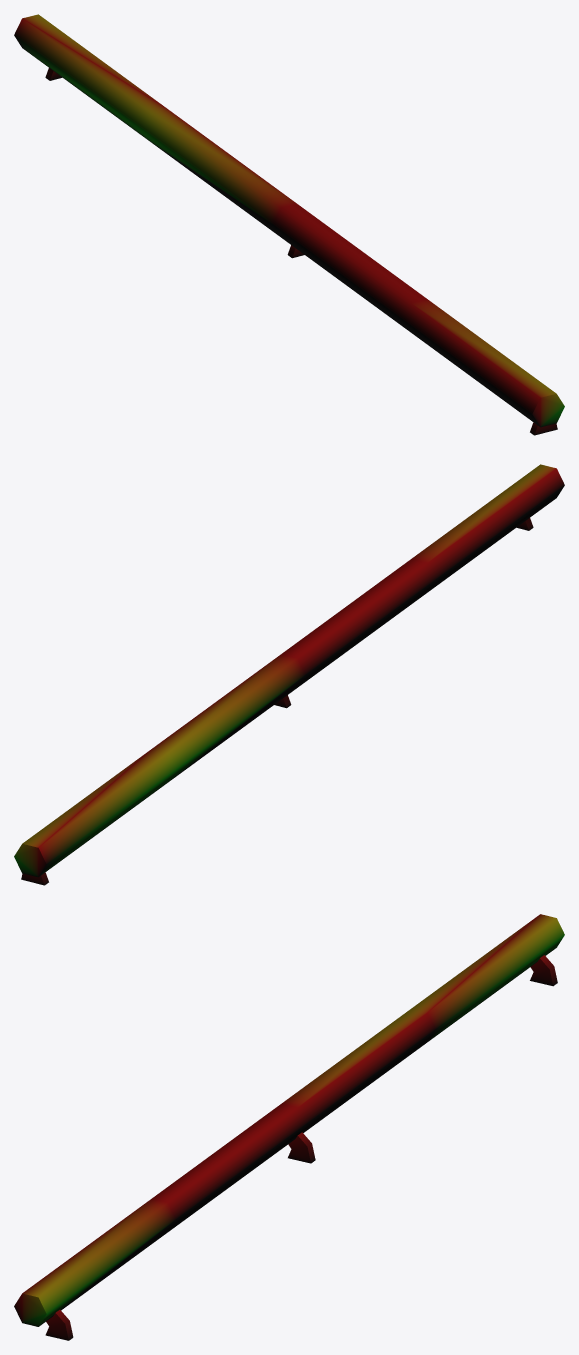
The model's file is Bridge_Rail.fbx.
3 renders of one model, top to bottom at view 1: azimuth 30°, elevation 25°; view 2: azimuth 150°, elevation 25°; view 3: azimuth 330°, elevation 25°, orthographic.
Visible parts, largest first — view 1: Bridge_Rail; view 2: Bridge_Rail; view 3: Bridge_Rail.
Boxes of the visible parts, x1=… form: Bridge_Rail: x1=14, y1=14, x2=564, y2=435; Bridge_Rail: x1=14, y1=464, x2=564, y2=885; Bridge_Rail: x1=14, y1=914, x2=564, y2=1340.
Bounding box in the file's own units: 0.1918 × 0.2306 × 4.28.
